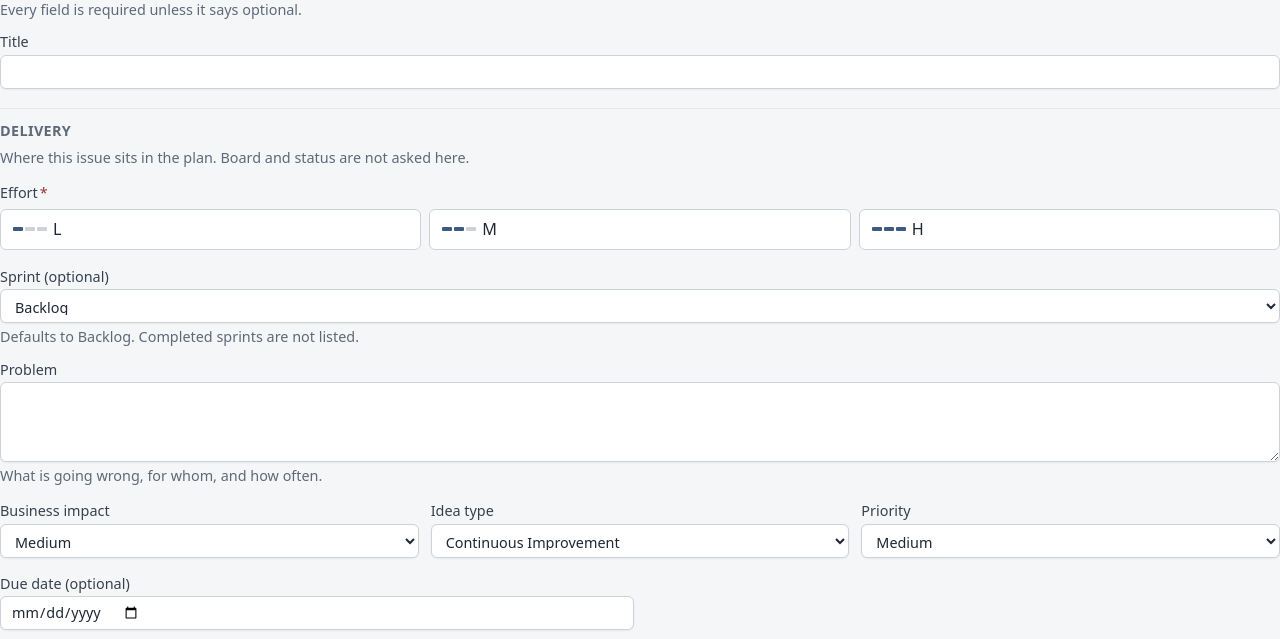
IdeaForm adding an Issue › shows a refusal with no field errors in the alert above the form
The width and height of the screenshot is (1280, 639).
Type "Fix the dock door" into the field labelled "Title".
click(640, 72); type("Fix the dock door")  # box [0, 55, 1279, 89]
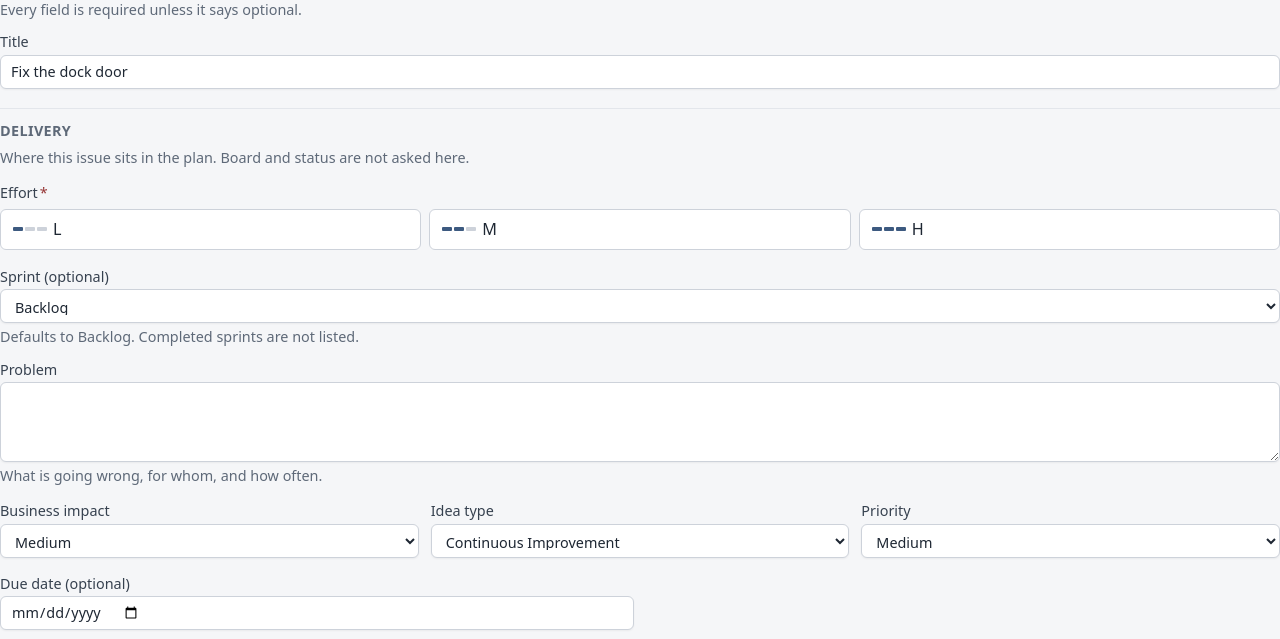
Type "It jams." into the text box labelled "Problem".
click(640, 422); type("It jams.")  # box [0, 382, 1279, 462]
(page scrolled)
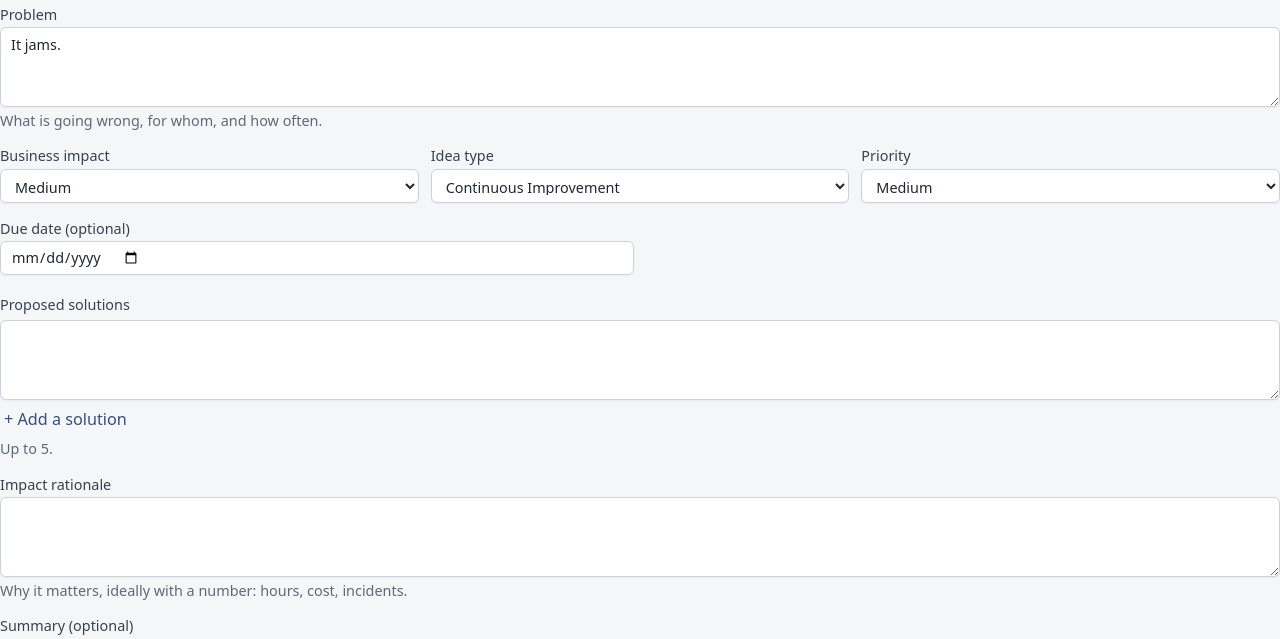
Type "New track" into the text box named "Solution 1".
click(640, 360); type("New track")  # box [0, 320, 1279, 400]
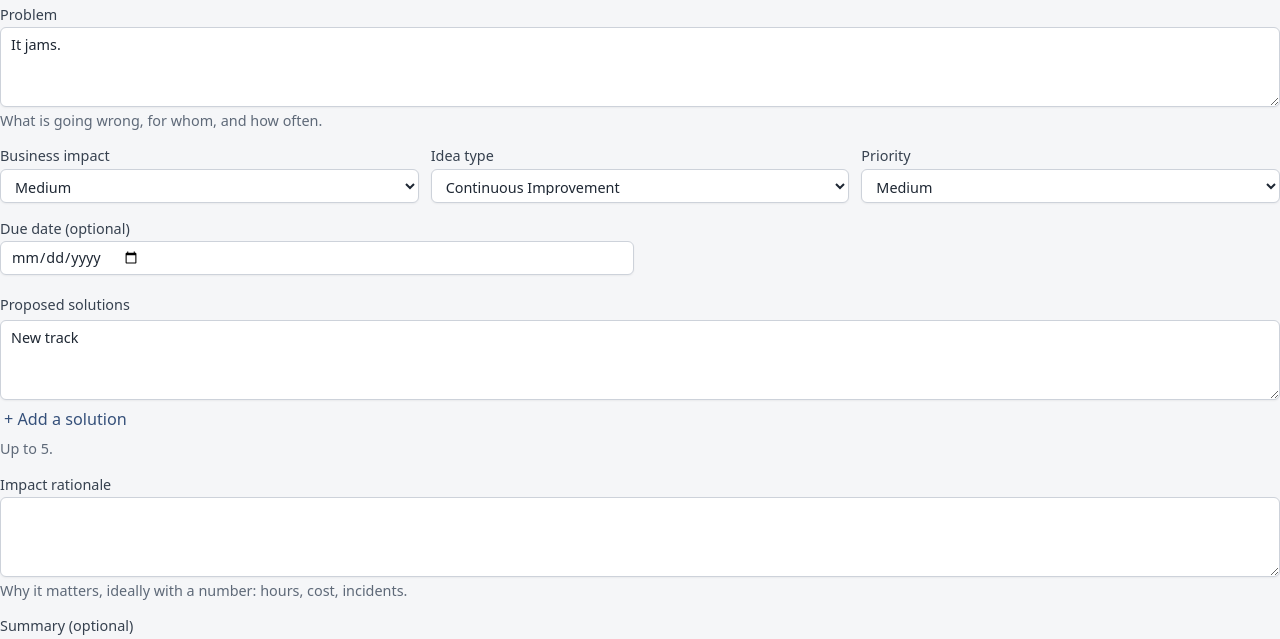
Type "Hours." into the text box labelled "Impact rationale".
click(640, 537); type("Hours.")  # box [0, 497, 1279, 577]
(page scrolled)
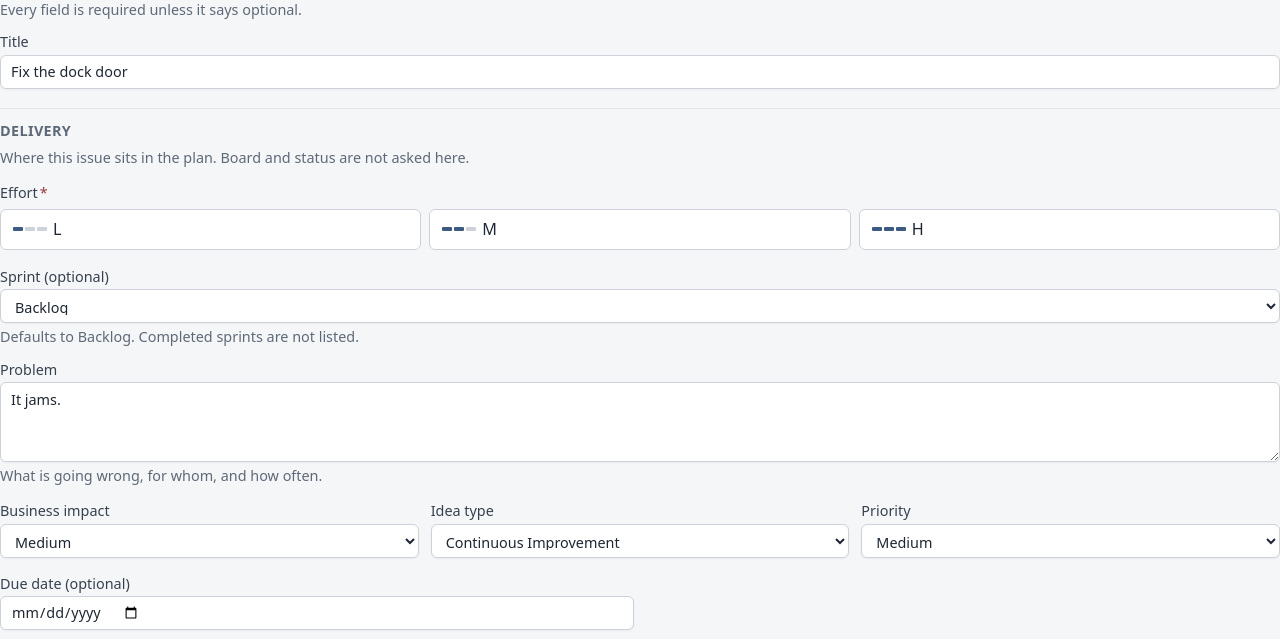
Click the radio button named "Low effort".
click(27, 240)  # box [0, 209, 421, 250]
(page scrolled)
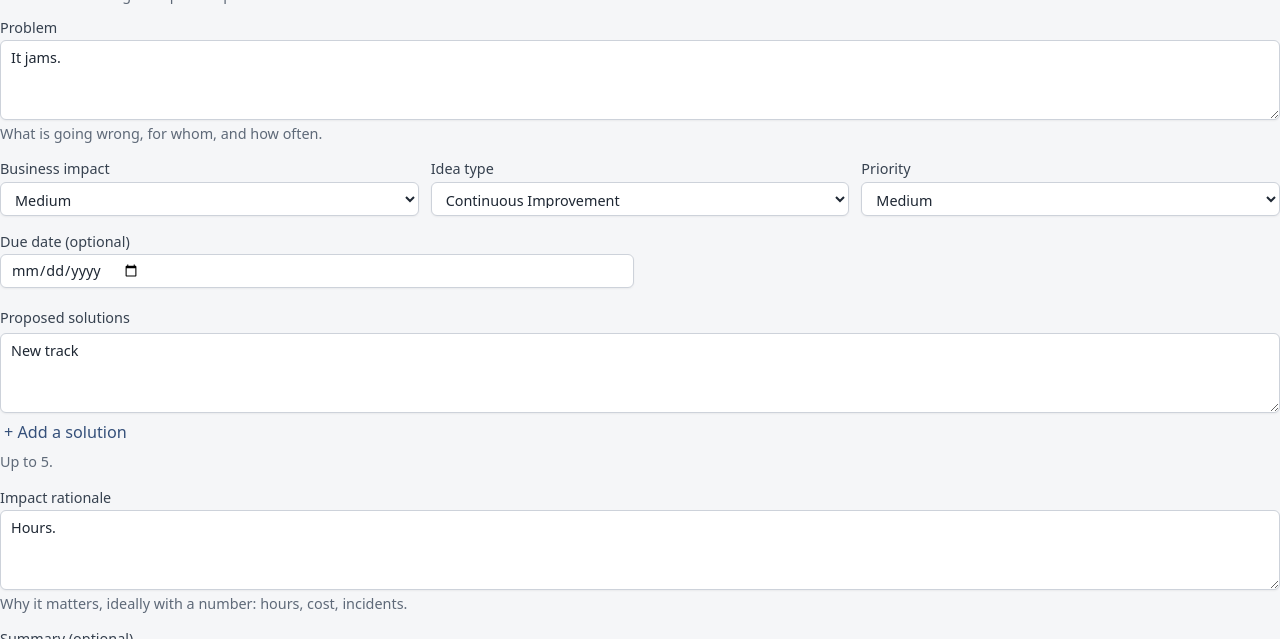
Submit the form
(page scrolled)
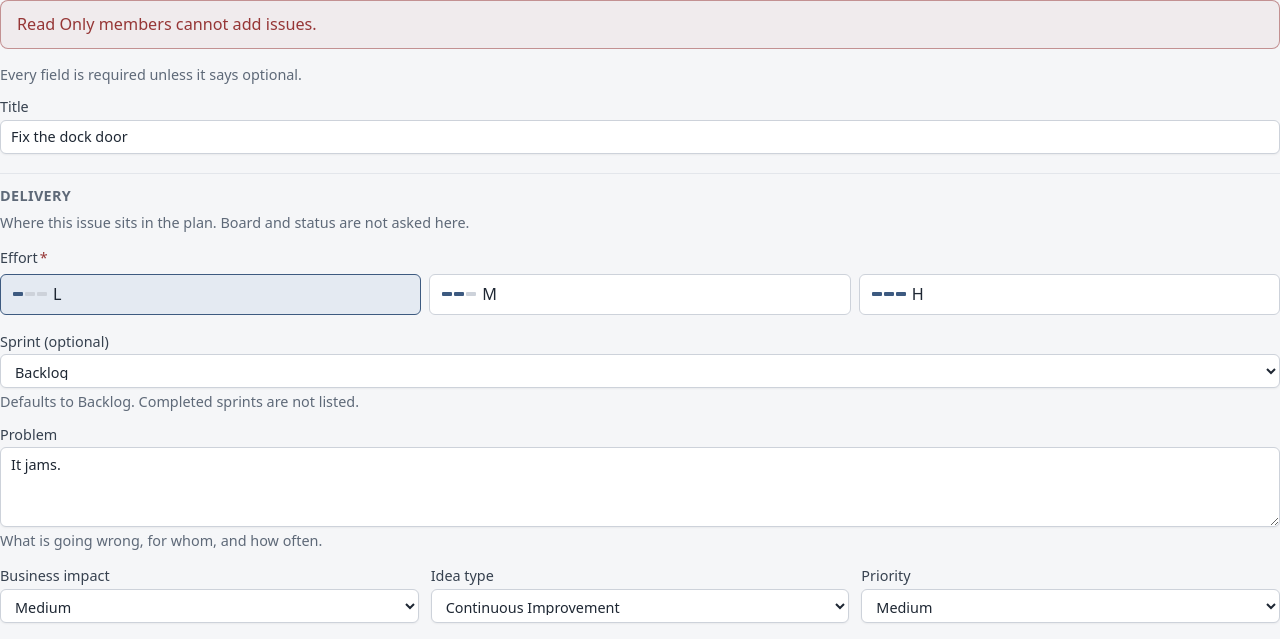
Expected: the message reads "Read Only members cannot add issues.", [17, 13, 317, 35]
